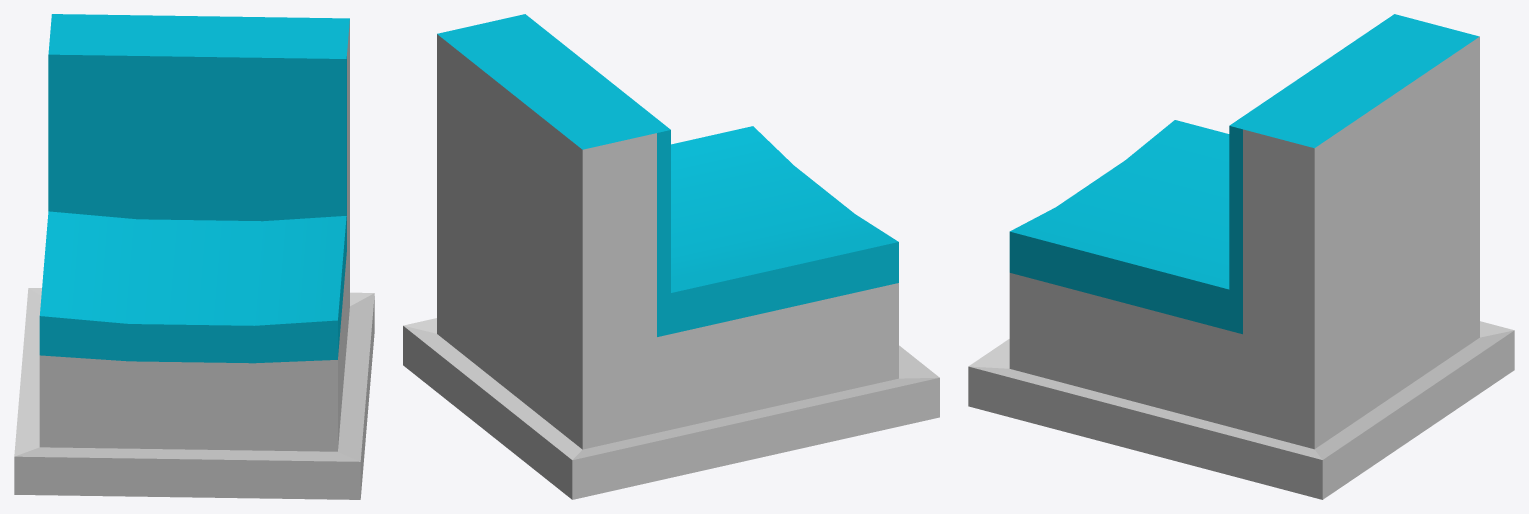
File: chair.fbx
3 renders of one model, left to right at view 1: azimuth 30°, elevation 25°; view 2: azimuth 150°, elevation 25°; view 3: azimuth 270°, elevation 25°, orthographic. The views are drawn at different scales.
Visible parts, largest first — view 1: chair; view 2: chair; view 3: chair.
Part boxes in pixels (box(x1,y1,x2,y2)): chair: box(14, 14, 374, 499); chair: box(403, 14, 939, 499); chair: box(968, 14, 1514, 499).
Size of the model in its own units: 14 by 9.85 by 14.47.
